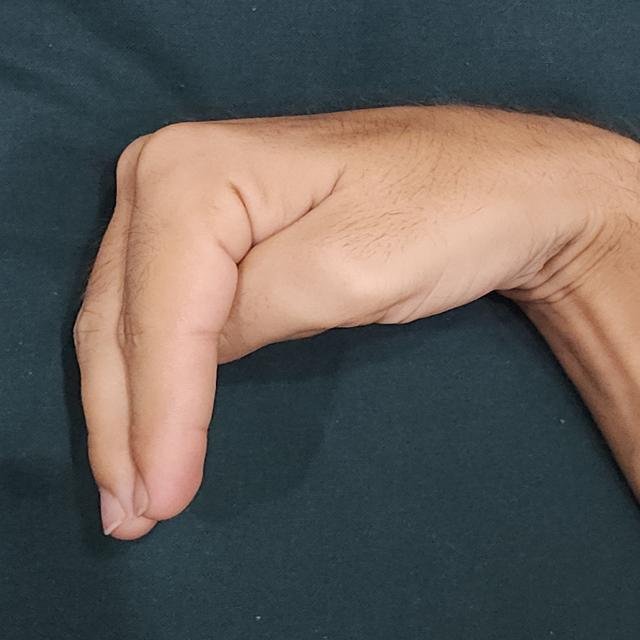ڈ: (68, 89, 640, 534)
